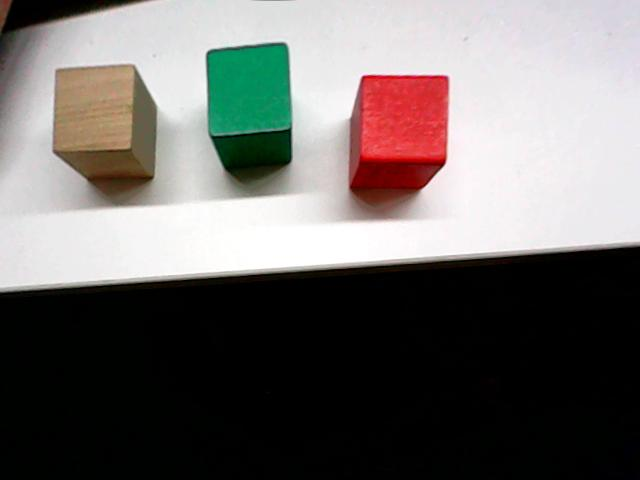green_box: (202, 38, 296, 179)
raw_box: (43, 59, 162, 184)
red_box: (345, 68, 453, 194)
